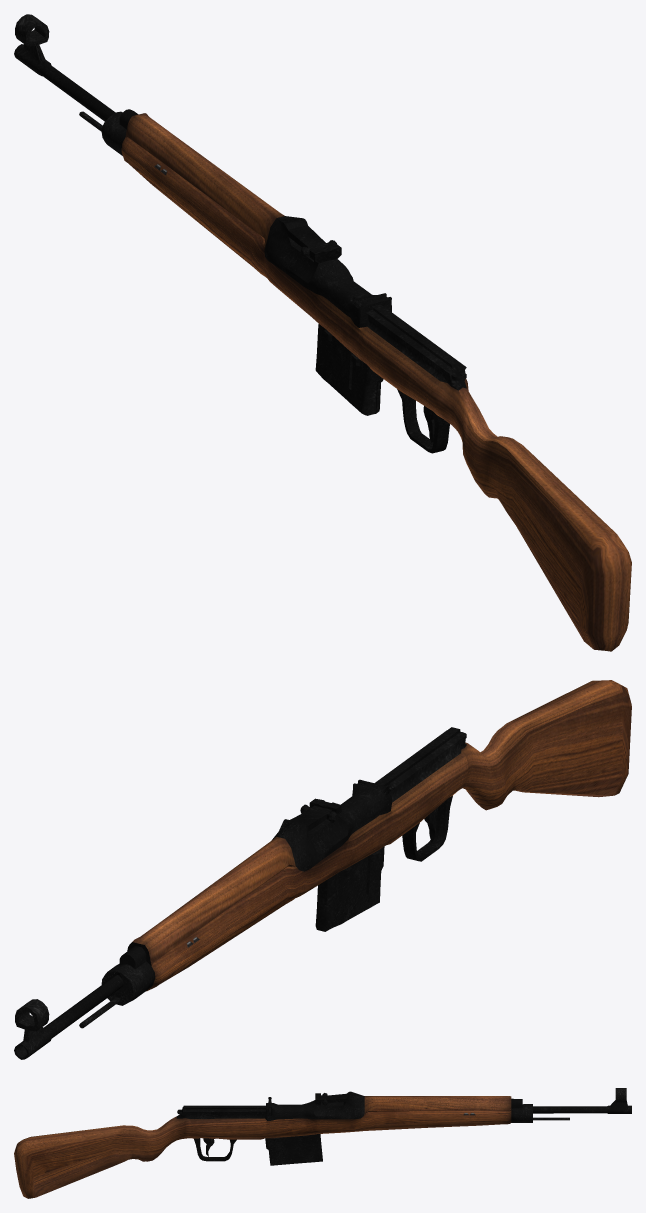
Rendered from gewehr43.glb.
The picture shows the model from 3 angles, top to bottom: view 1: azimuth 30°, elevation 25°; view 2: azimuth 150°, elevation 25°; view 3: azimuth 270°, elevation 25°; orthographic projection. The views are drawn at different scales.
Parts seen in each view (by area): view 1: Newobj_g43:polySurface1; view 2: Newobj_g43:polySurface1; view 3: Newobj_g43:polySurface1.
Part boxes in pixels (x1,y1,x2,y2): Newobj_g43:polySurface1: [14, 14, 631, 651]; Newobj_g43:polySurface1: [14, 680, 631, 1059]; Newobj_g43:polySurface1: [14, 1088, 631, 1198].
Bounding box in the file's own units: 5.61 × 26.22 × 135.
1 material, 1 textured.
